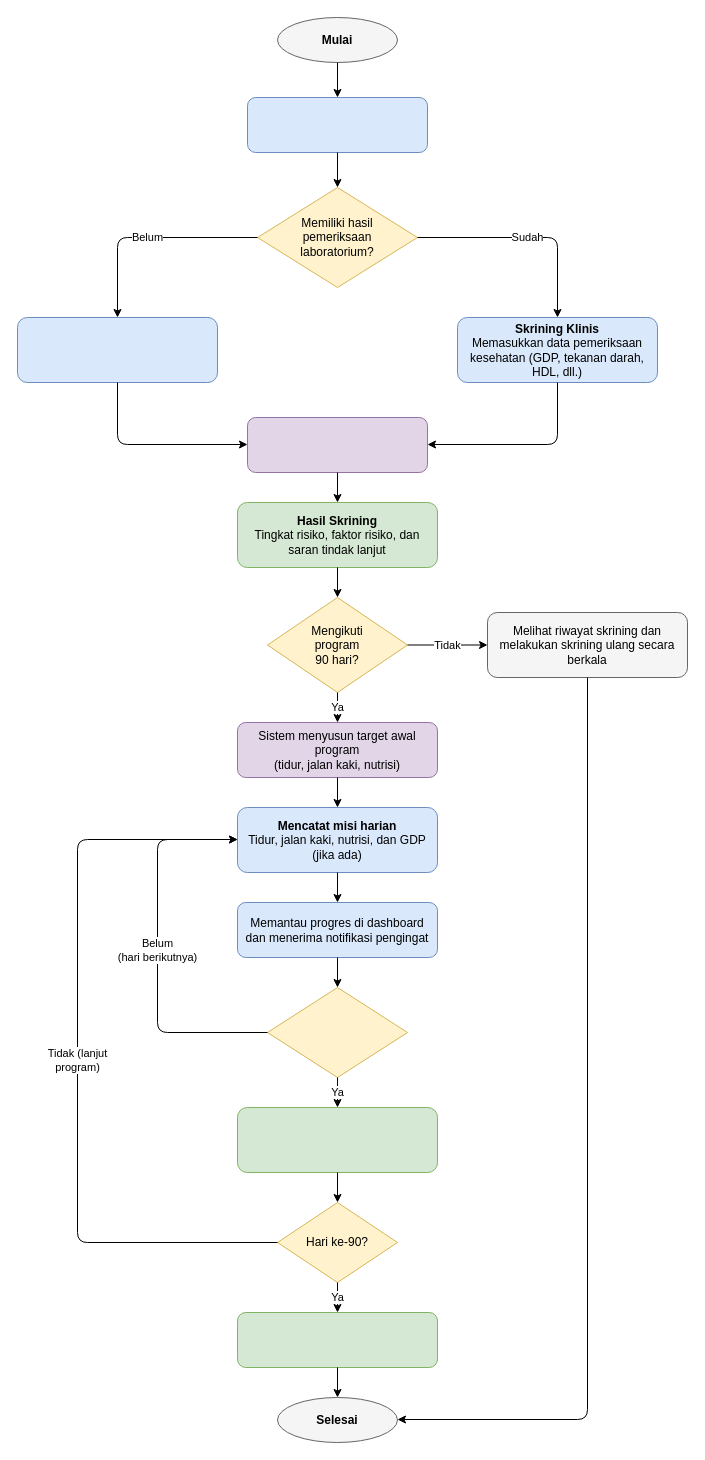
The diagram is 705 pixels wide and 1460 high, and some of its shapes have lost their labels. Each missing label, with the centre of its shape:
"Evaluasi perkembangan Sistem menampilkan ringkasan konsistensi kebiasaan" belongs at [337,1139].
"Hari ke-30 atau ke-90?" belongs at [337,1032].
"Program selesai, hasil akhir dan riwayat tersimpan" belongs at [337,1340].
"Registrasi / login (email atau akun Google)" belongs at [337,124].
"Sistem memproses data menggunakan model AI" belongs at [337,444].
"Skrining Kuesioner Mengisi kuesioner gaya hidup dan riwayat kesehatan" belongs at [117,349].
